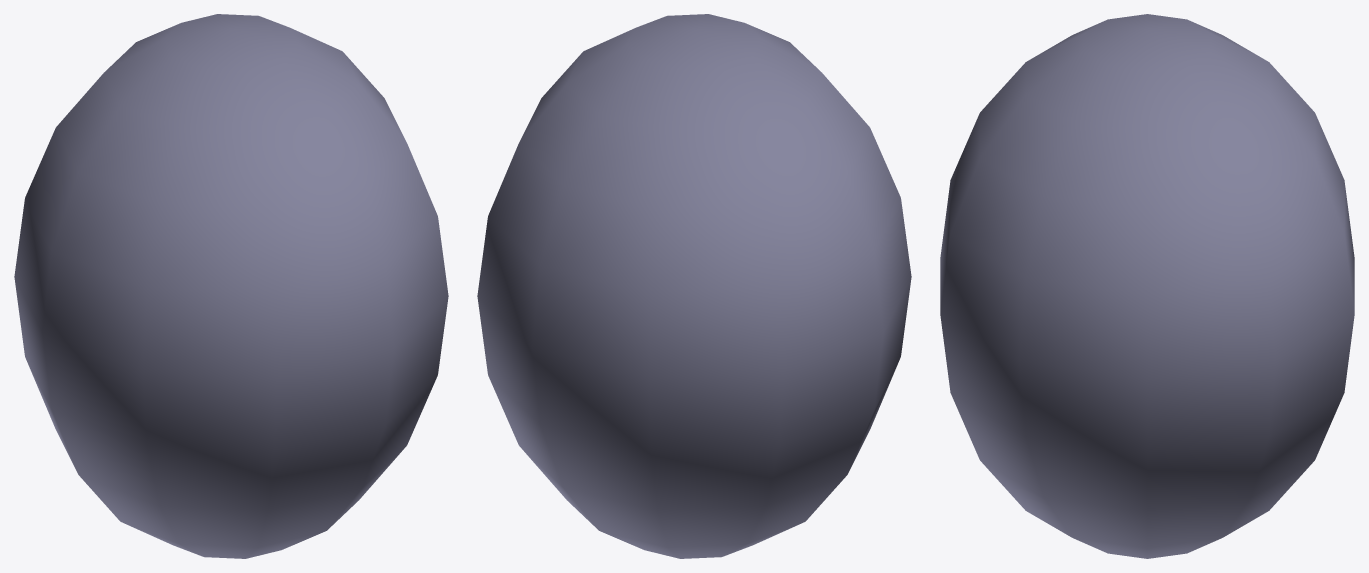
File: boltpup_stage2.obj
3 renders of one model, left to right at view 1: azimuth 30°, elevation 25°; view 2: azimuth 150°, elevation 25°; view 3: azimuth 270°, elevation 25°, orthographic.
Bounding box in the file's own units: 2 × 2.6 × 1.9.
